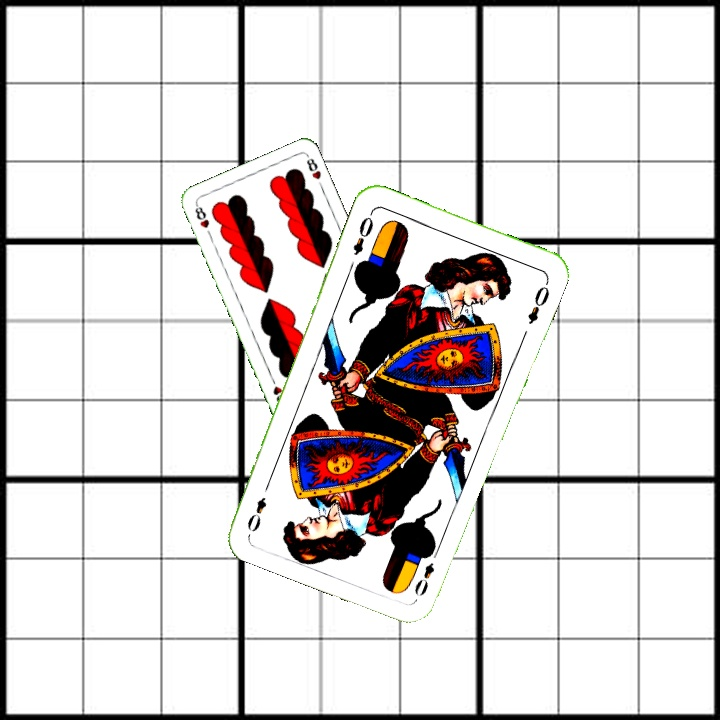EO: (410, 544, 442, 599), (349, 208, 376, 258)
H8: (191, 200, 212, 231)
